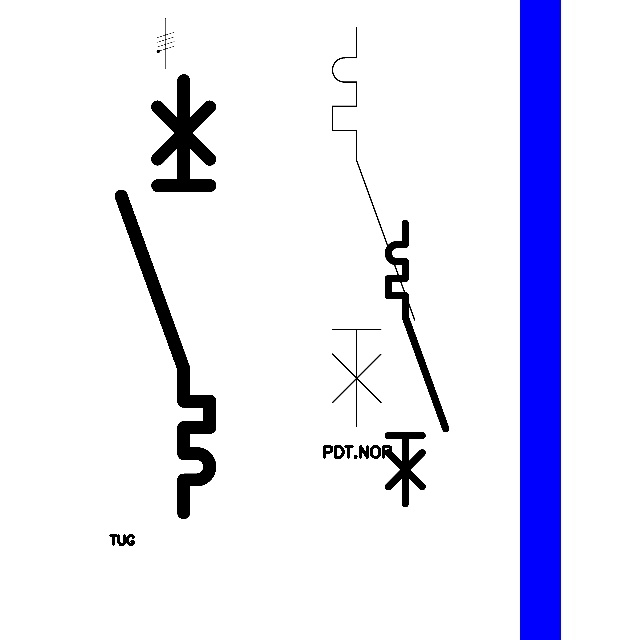interruptor_termomagnetico: (110, 69, 221, 523), (322, 17, 424, 437), (381, 216, 453, 511)
